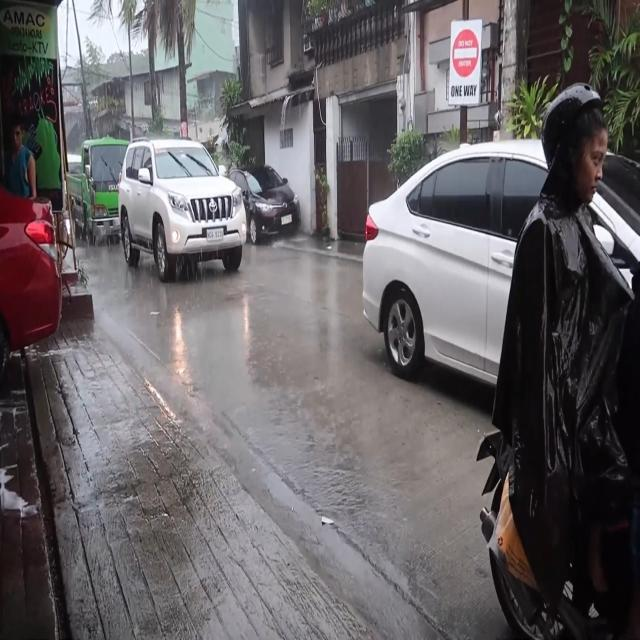invalid: (540, 84, 602, 162)
